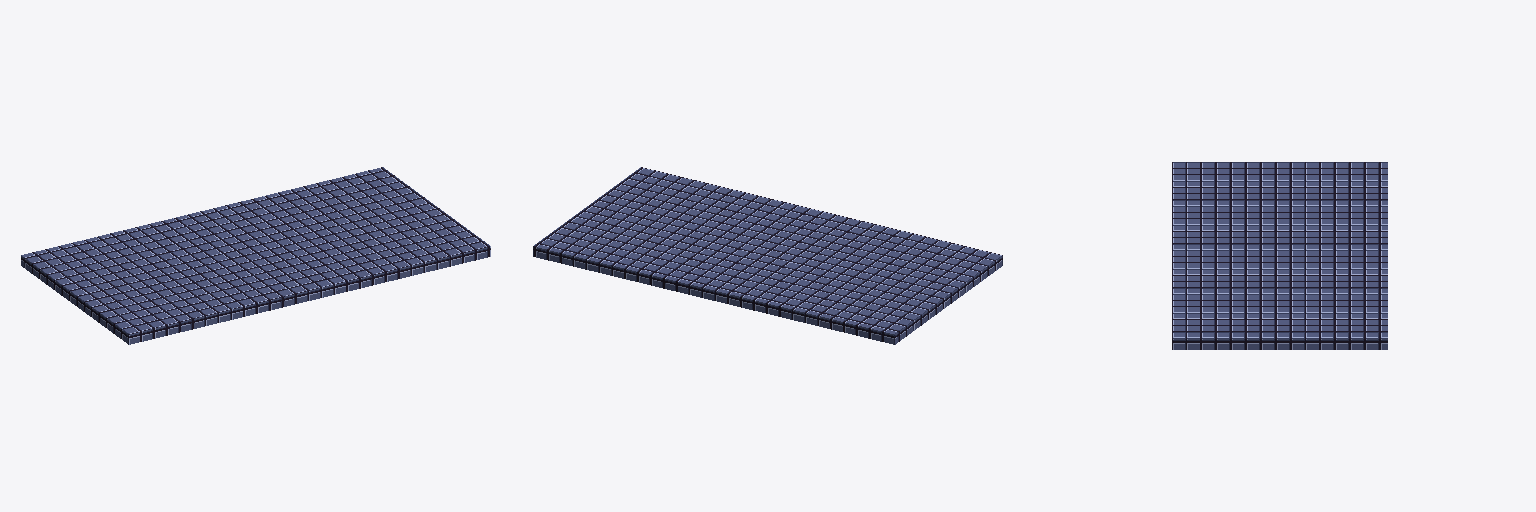
The picture shows the model from 3 angles: view 1: azimuth 30°, elevation 25°; view 2: azimuth 150°, elevation 25°; view 3: azimuth 270°, elevation 25°; orthographic projection.
Visible parts, largest first — view 1: Cube (3); view 2: Cube (3); view 3: Cube (3).
Part boxes in pixels (x1,y1,x2,y2): Cube (3): (21,167,490,344); Cube (3): (533,167,1002,344); Cube (3): (1172,162,1387,349).
Size of the model in its own units: 28.11 by 0.7704 by 14.57.
2 materials, 1 textured.